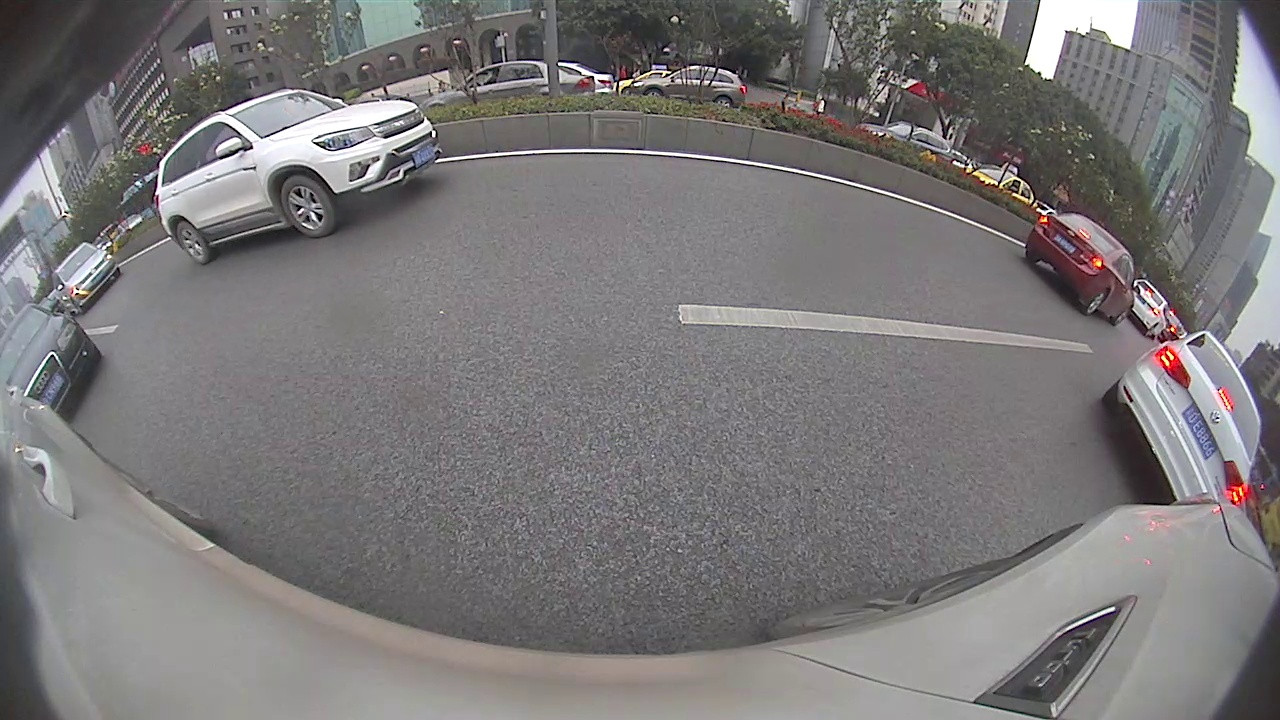car: (152, 88, 445, 266), (1097, 328, 1267, 506), (1023, 211, 1138, 325), (1, 301, 102, 423), (426, 58, 595, 108), (623, 63, 748, 108), (51, 242, 122, 310)
front: (279, 179, 335, 235), (645, 88, 665, 105)
rear: (173, 221, 211, 265), (1082, 289, 1108, 318), (716, 96, 732, 113)
